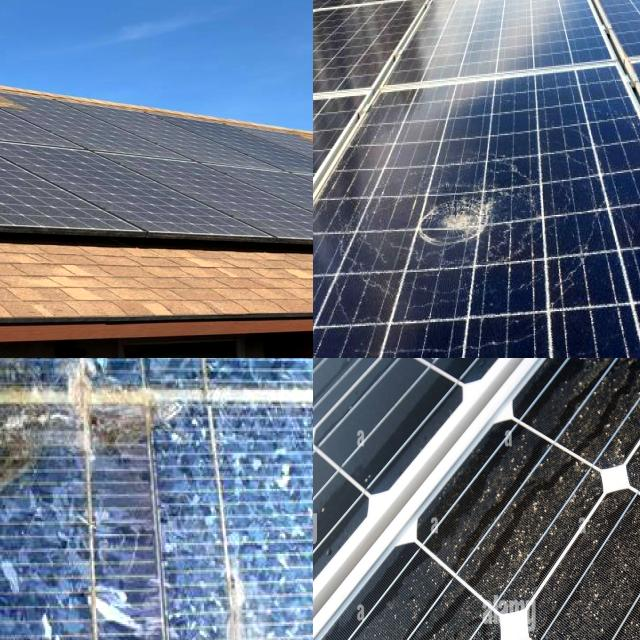dust: (466, 473, 570, 597), (34, 158, 236, 216), (573, 521, 640, 640), (0, 142, 108, 211), (355, 581, 442, 640)
hotspot: (414, 174, 522, 300)
shadow: (0, 358, 188, 525)
